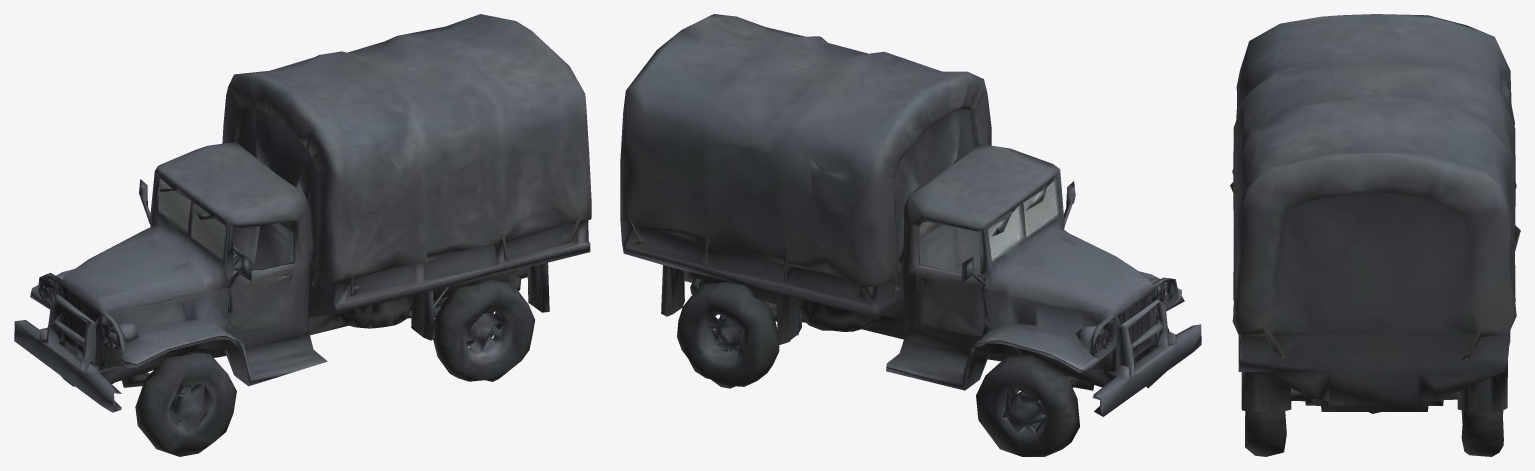
The model's file is ww2_truck.glb.
3 views of the same model, side by side, from view 1: azimuth 30°, elevation 25°; view 2: azimuth 150°, elevation 25°; view 3: azimuth 270°, elevation 25° (orthographic). The views are drawn at different scales.
Visible parts, largest first — view 1: tripo_node_8e50b035-6a37-4069-b742-bf1fe8076847; view 2: tripo_node_8e50b035-6a37-4069-b742-bf1fe8076847; view 3: tripo_node_8e50b035-6a37-4069-b742-bf1fe8076847.
Boxes of the visible parts, x1=… form: tripo_node_8e50b035-6a37-4069-b742-bf1fe8076847: x1=14, y1=14, x2=591, y2=456; tripo_node_8e50b035-6a37-4069-b742-bf1fe8076847: x1=620, y1=14, x2=1201, y2=456; tripo_node_8e50b035-6a37-4069-b742-bf1fe8076847: x1=1230, y1=14, x2=1520, y2=456.
Size of the model in its own units: 0.9788 by 0.5766 by 0.4316.
Materials: 1 (1 with a texture image).
